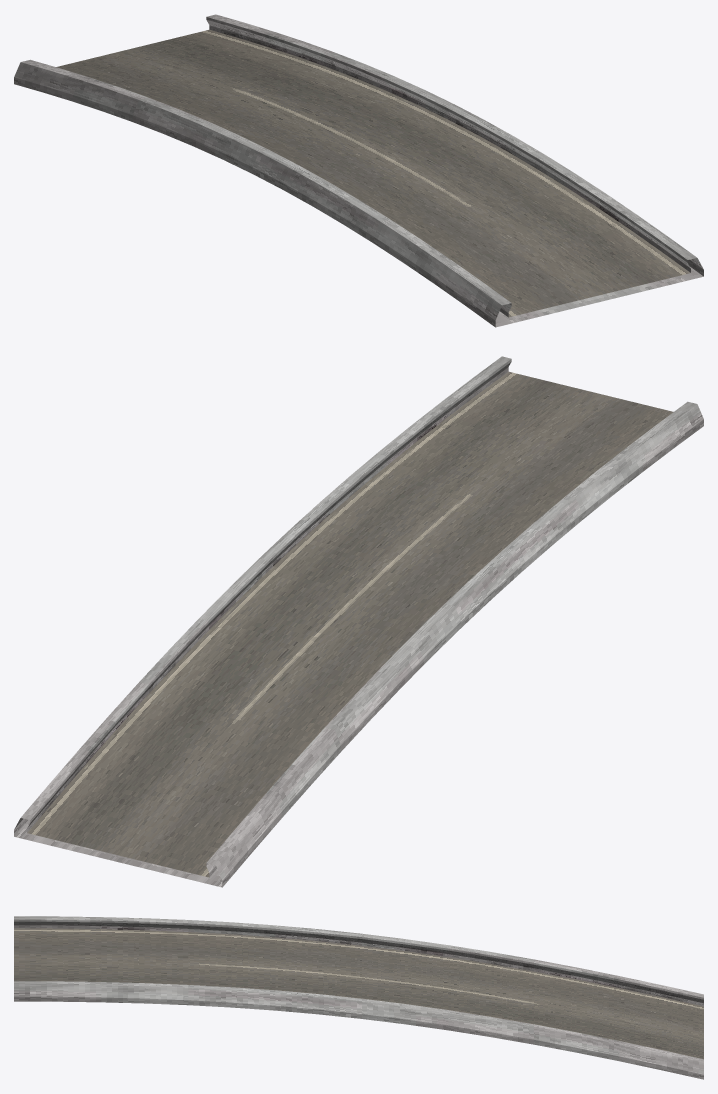
Rendered from road-Straight-Flat-BiSlopeDown-Down2-Center-Size4.glb.
3 renders of one model, top to bottom at view 1: azimuth 30°, elevation 25°; view 2: azimuth 150°, elevation 25°; view 3: azimuth 270°, elevation 25°, orthographic. The views are drawn at different scales.
Visible parts, largest first — view 1: road-Straight-Flat-BiSlopeDown-Down2-Center-Size4; view 2: road-Straight-Flat-BiSlopeDown-Down2-Center-Size4; view 3: road-Straight-Flat-BiSlopeDown-Down2-Center-Size4.
Boxes of the visible parts, x1,y1,x2,y2 form: road-Straight-Flat-BiSlopeDown-Down2-Center-Size4: [14, 14, 703, 327]; road-Straight-Flat-BiSlopeDown-Down2-Center-Size4: [14, 356, 703, 887]; road-Straight-Flat-BiSlopeDown-Down2-Center-Size4: [14, 916, 703, 1079].
Bounding box in the file's own units: 1 × 0.5938 × 4.
2 materials, 2 textured.
